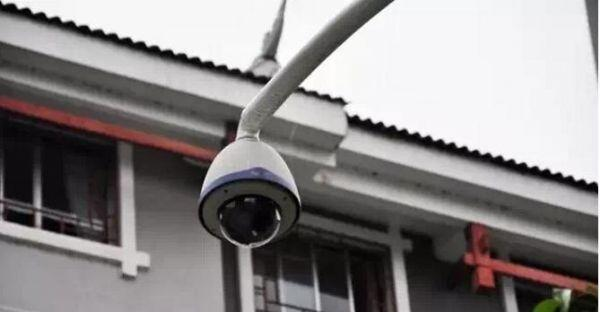camera: (204, 146, 291, 247)
